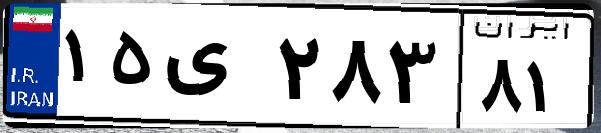1: (57, 26, 110, 100), (525, 38, 570, 115)
2: (270, 28, 330, 110)
3: (385, 28, 445, 110)
5: (110, 28, 158, 98)
8: (330, 28, 385, 110), (475, 38, 525, 113)
ی: (158, 20, 270, 120)
